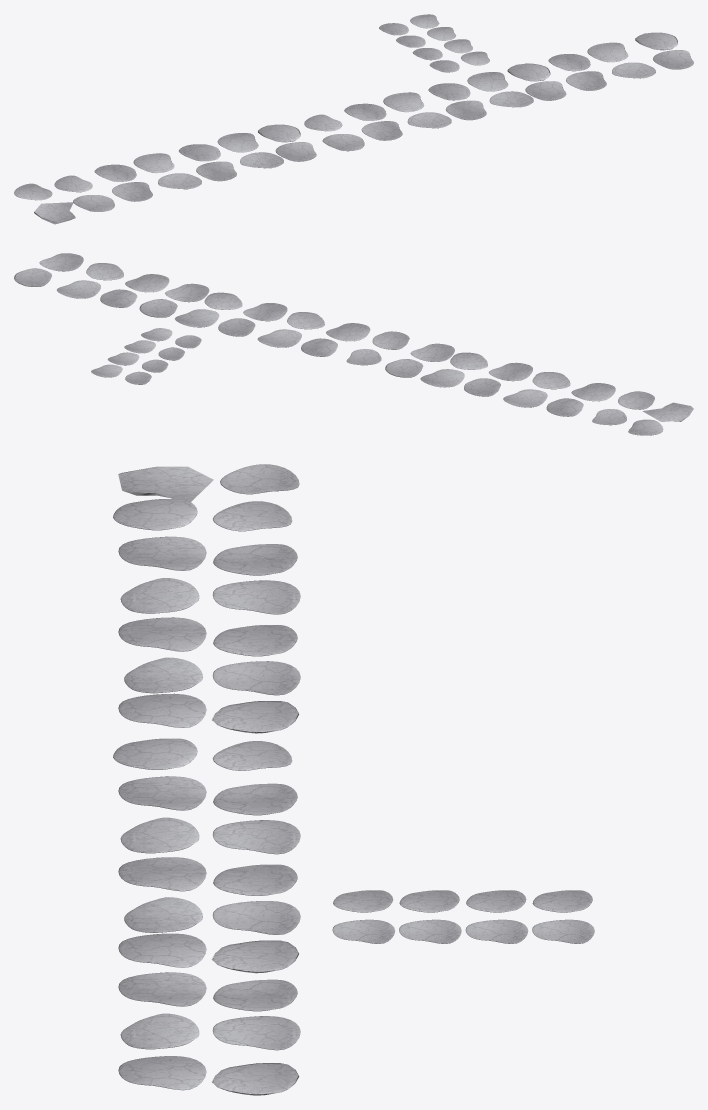
The model's file is Pathway.fbx.
The picture shows the model from 3 angles, top to bottom: view 1: azimuth 30°, elevation 25°; view 2: azimuth 150°, elevation 25°; view 3: azimuth 270°, elevation 25°; orthographic projection. The views are drawn at different scales.
Parts seen in each view (by area): view 1: pCube205, pCube226, pCube228, pCube234, pCube232, pCube214, pCube230, pCube235, pCube216, pCube212, pCube218, pCube237 (+20 smaller); view 2: pCube205, pCube226, pCube230, pCube235, pCube216, pCube211, pCube224, pCube228, pCube234, pCube237, pCube212, pCube218 (+24 smaller); view 3: pCube205, pCube211, pCube214, pCube232, pCube216, pCube224, pCube228, pCube235, pCube212, pCube226, pCube234, pCube218 (+28 smaller).
Part boxes in pixels (left/top/right/bottom): pCube205: left=34, top=202, right=75, bottom=224; pCube226: left=383, top=92, right=423, bottom=112; pCube228: left=445, top=100, right=486, bottom=120; pCube234: left=587, top=42, right=628, bottom=62; pCube232: left=525, top=81, right=566, bottom=100; pCube214: left=196, top=161, right=236, bottom=181; pCube230: left=467, top=72, right=508, bottom=91; pCube235: left=566, top=71, right=606, bottom=90; pCube216: left=133, top=153, right=174, bottom=173; pCube212: left=217, top=133, right=258, bottom=152; pCube218: left=275, top=142, right=316, bottom=161; pCube237: left=653, top=50, right=693, bottom=69; pCube205: left=642, top=402, right=693, bottom=421; pCube226: left=257, top=329, right=301, bottom=347; pCube230: left=175, top=309, right=219, bottom=327; pCube235: left=125, top=274, right=169, bottom=292; pCube216: left=503, top=389, right=547, bottom=407; pCube211: left=571, top=383, right=615, bottom=401; pCube224: left=326, top=323, right=370, bottom=341; pCube228: left=243, top=303, right=287, bottom=321; pCube234: left=57, top=280, right=100, bottom=298; pCube237: left=39, top=253, right=83, bottom=271; pCube212: left=420, top=369, right=464, bottom=387; pCube218: left=410, top=343, right=454, bottom=361; pCube205: left=118, top=466, right=213, bottom=501; pCube211: left=118, top=536, right=206, bottom=570; pCube214: left=118, top=617, right=206, bottom=651; pCube232: left=118, top=933, right=206, bottom=967; pCube216: left=212, top=580, right=300, bottom=614; pCube224: left=118, top=776, right=206, bottom=810; pCube228: left=118, top=857, right=206, bottom=891; pCube235: left=118, top=972, right=206, bottom=1006; pCube212: left=212, top=661, right=300, bottom=695; pCube226: left=212, top=820, right=300, bottom=854; pCube234: left=212, top=1016, right=300, bottom=1050; pCube218: left=118, top=693, right=206, bottom=727.
Bounding box in the file's own units: 2981 × 15.36 × 960.
